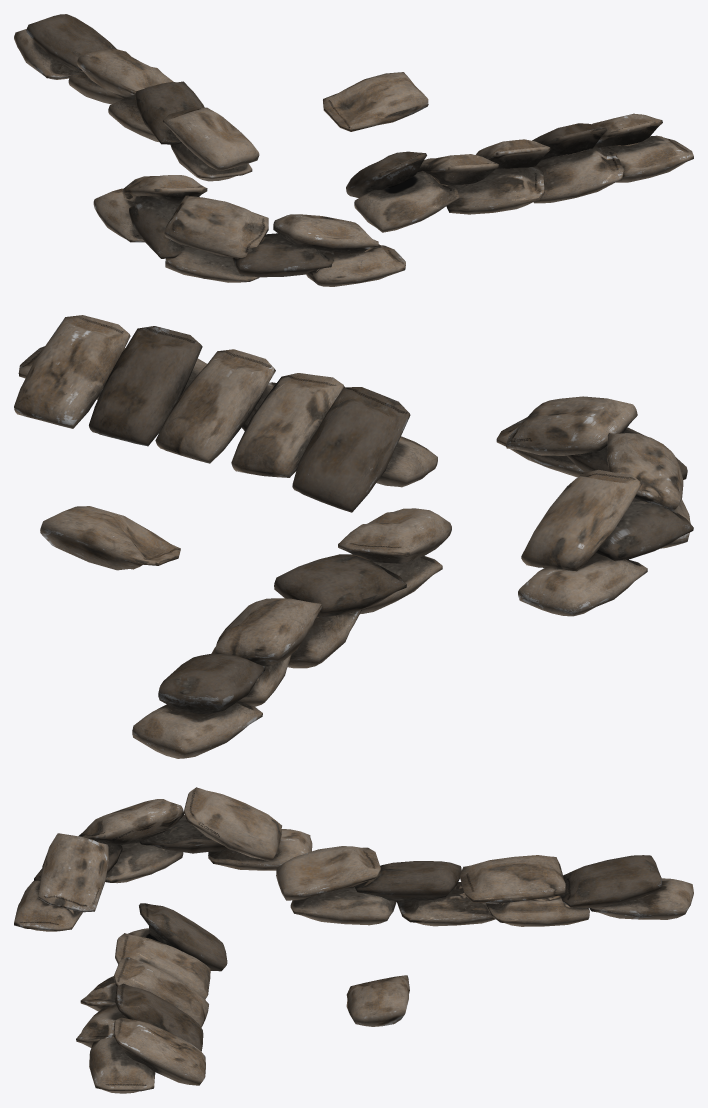
The model's file is sacos_areia.glb.
3 renders of one model, top to bottom at view 1: azimuth 30°, elevation 25°; view 2: azimuth 150°, elevation 25°; view 3: azimuth 270°, elevation 25°, orthographic. The views are drawn at different scales.
Parts seen in each view (by area): view 1: Object_2; view 2: Object_2; view 3: Object_2.
Boxes of the visible parts, left/top/right/bottom form: Object_2: left=14, top=14, right=693, bottom=286; Object_2: left=14, top=315, right=693, bottom=758; Object_2: left=14, top=787, right=693, bottom=1093.
Bounding box in the file's own units: 1.43 × 0.1909 × 1.6.
1 material, 1 textured.
